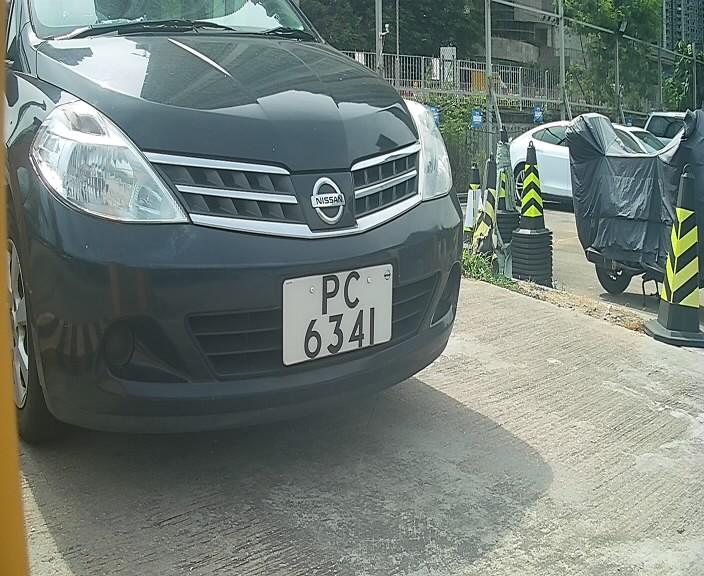License Plate: (274, 260, 400, 371)
